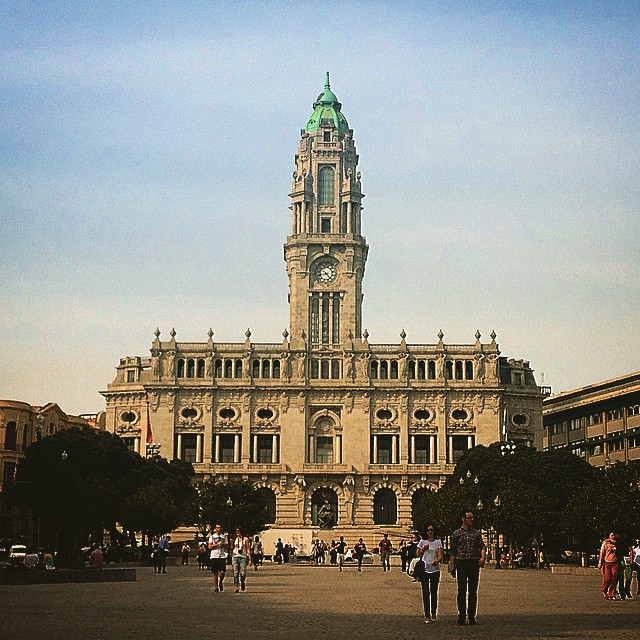camara: (99, 70, 552, 543)
